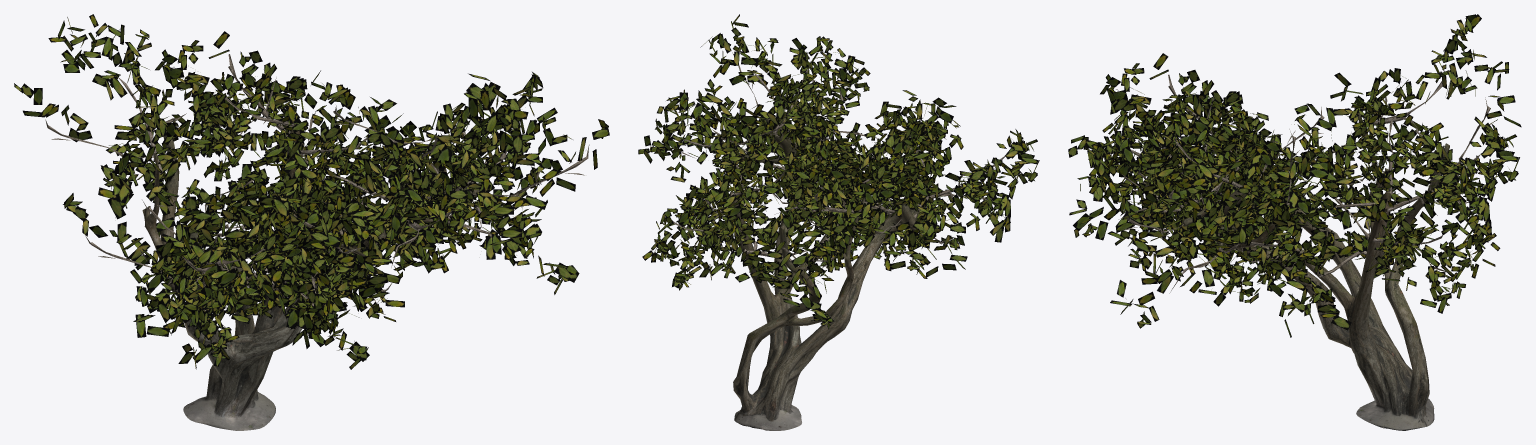
The picture shows the model from 3 angles, left to right: view 1: azimuth 30°, elevation 25°; view 2: azimuth 150°, elevation 25°; view 3: azimuth 270°, elevation 25°; orthographic projection. The views are drawn at different scales.
Visible parts, largest first — view 1: island_tree_02_LOD0; view 2: island_tree_02_LOD0; view 3: island_tree_02_LOD0.
Part boxes in pixels (box(x1,y1,x2,y2)): island_tree_02_LOD0: box(14, 14, 609, 430); island_tree_02_LOD0: box(638, 14, 1039, 430); island_tree_02_LOD0: box(1068, 14, 1521, 430).
Size of the model in its own units: 3.92 by 3.43 by 4.03.
3 materials, 3 textured.
